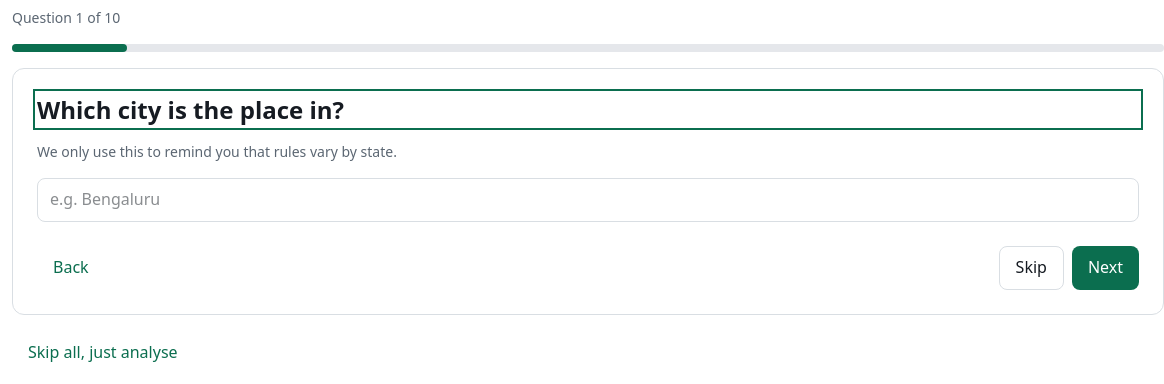
Interview › advances with Enter and echoes the normalised rent live
The width and height of the screenshot is (1164, 384).
Click the button "Skip": (1031, 268) [999,246,1064,290]
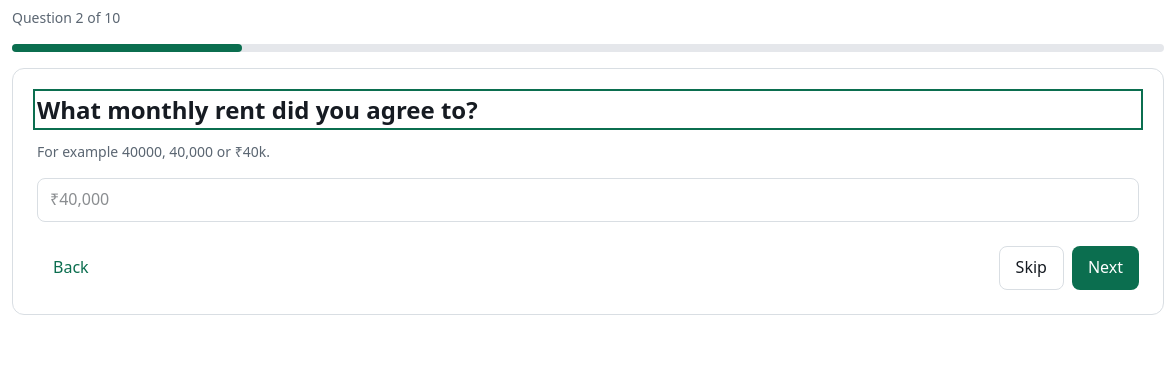
In the field labelled "What monthly rent did you agree to?": (588, 200) [37,178,1139,222], type "₹40k"
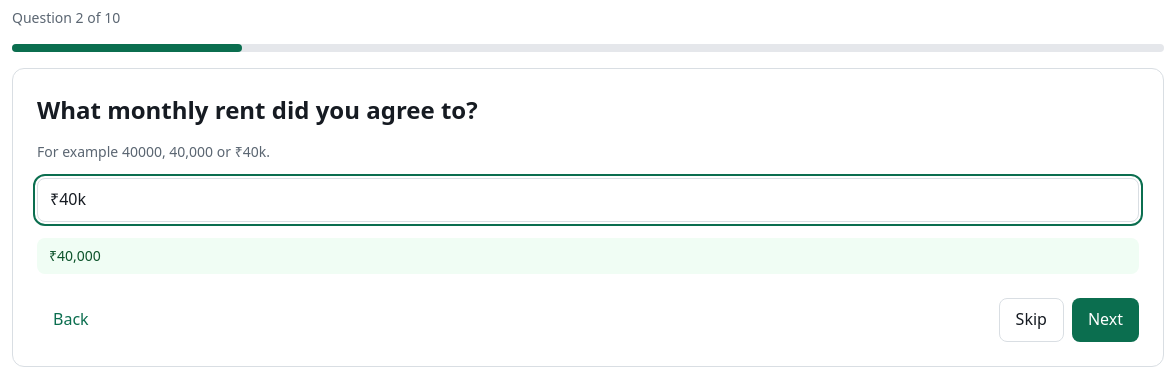
Check: the text "₹40,000" is shown, box [37,238,1139,274]
Press Enter
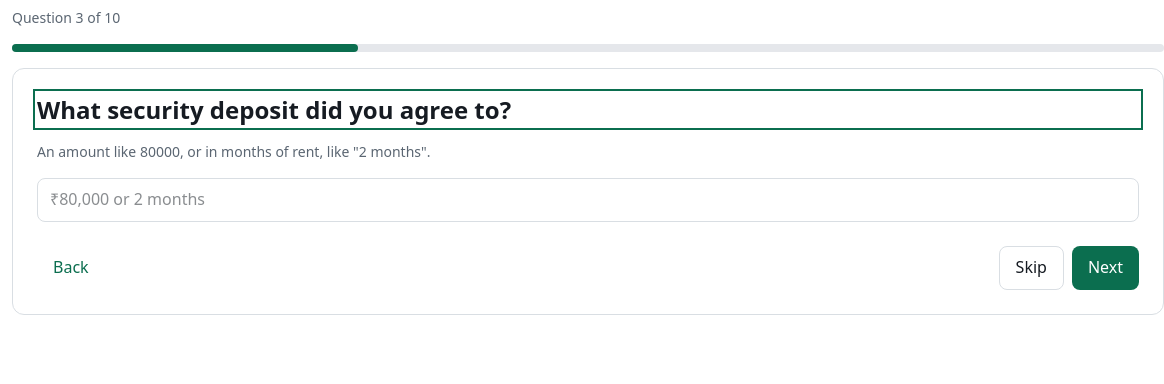
Check: the heading reads "What security deposit did you agree to?", box [37,93,511,126]
